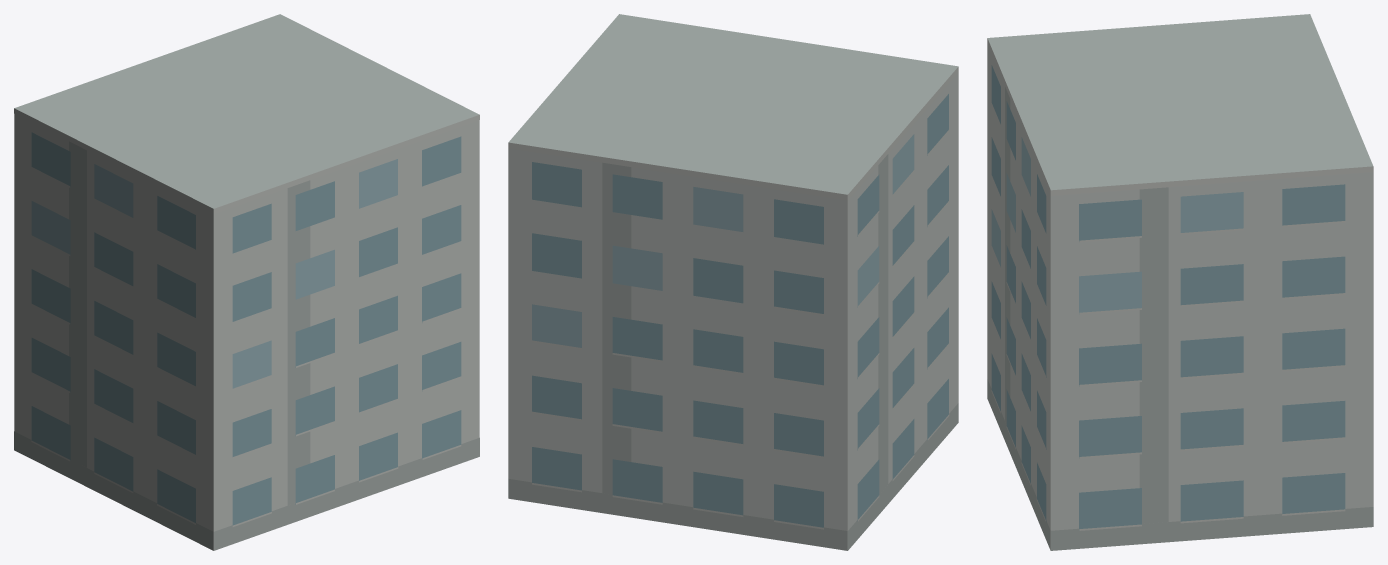
Rendered from residential-f8369b5f-e01a-4e32-94e6-1fd600b1e14e.glb.
3 views of the same model, side by side, from view 1: azimuth 30°, elevation 25°; view 2: azimuth 150°, elevation 25°; view 3: azimuth 270°, elevation 25° (orthographic). The views are drawn at different scales.
Visible parts, largest first — view 1: residential-f8369b5f-e01a-4e32-94e6-1fd600b1e14e.tmp; view 2: residential-f8369b5f-e01a-4e32-94e6-1fd600b1e14e.tmp; view 3: residential-f8369b5f-e01a-4e32-94e6-1fd600b1e14e.tmp.
Part boxes in pixels (x1=…): residential-f8369b5f-e01a-4e32-94e6-1fd600b1e14e.tmp: x1=14, y1=14, x2=479, y2=550; residential-f8369b5f-e01a-4e32-94e6-1fd600b1e14e.tmp: x1=508, y1=14, x2=958, y2=550; residential-f8369b5f-e01a-4e32-94e6-1fd600b1e14e.tmp: x1=987, y1=14, x2=1373, y2=550.
Bounding box in the file's own units: 16 × 15.25 × 14.81.
